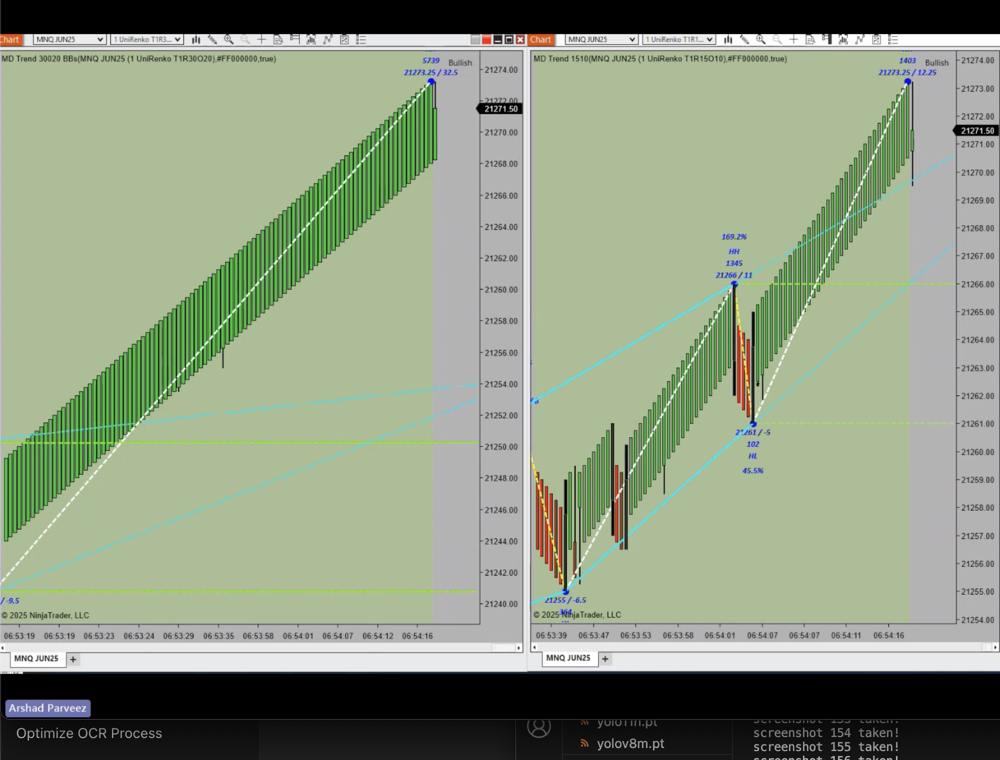HH: (722, 245, 750, 259)
HL: (743, 450, 764, 463)
